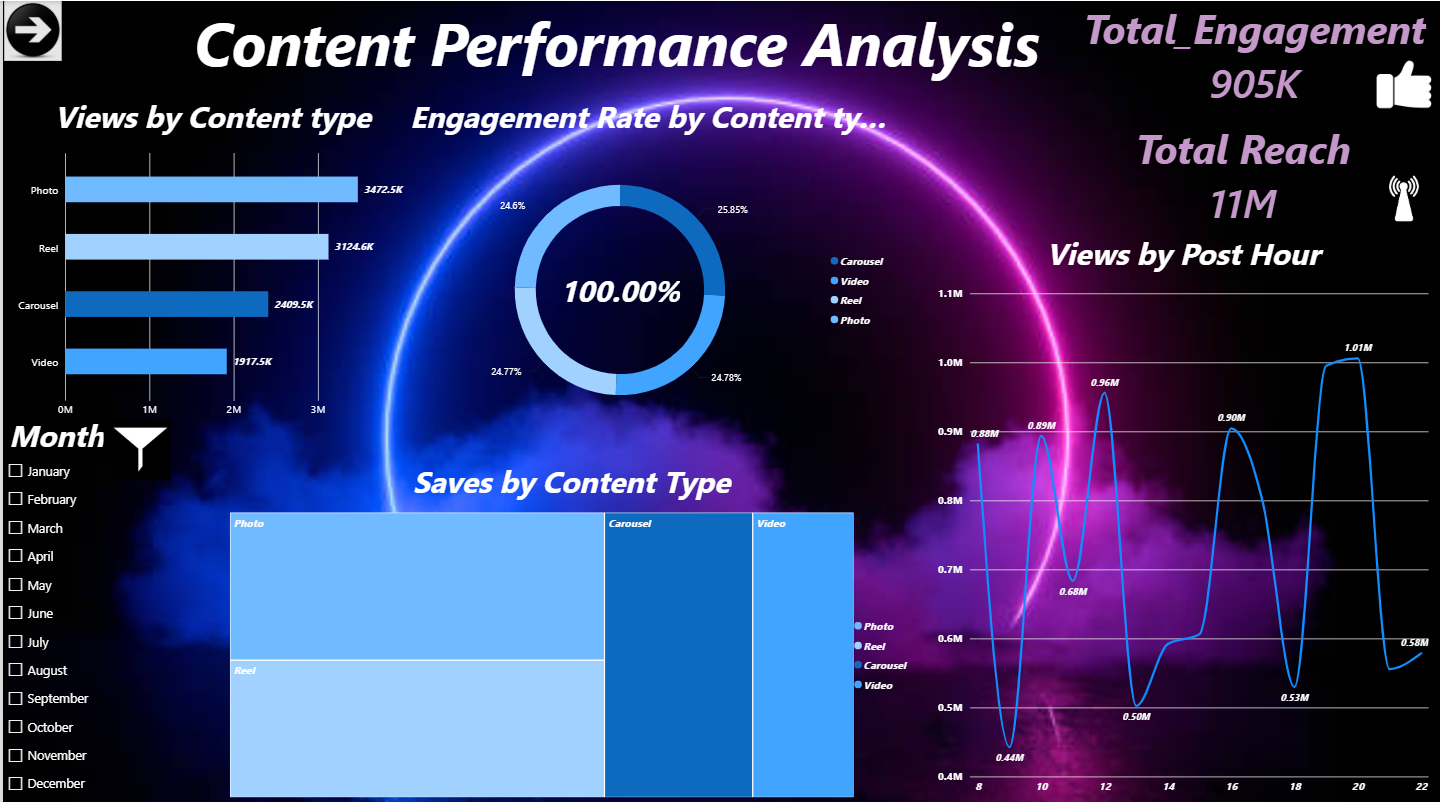

What the dashboard file says about the page in this screenshot:
{"tool":"powerbi","page":{"name":"Content Performance Analysis ","canvas":[1920,1080],"ordinal":1},"visuals":[{"type":"cardVisual","fields":{"Data":["Sheet1.Total_Engagement"]},"box":[1424,0,496,144],"z":0},{"type":"cardVisual","fields":{"Data":["Sheet1.Total Reach"]},"box":[1392,160,528,144],"z":1000},{"type":"slicer","fields":{"Values":["Sheet1.Post Date.Variation.Date Hierarchy.Month"]},"box":[0,552,288,528],"z":2000},{"type":"donutChart","title":"Engagement Rate by Content type","fields":{"Category":["Sheet1.Content_Type"],"Y":["Divide(Sheet1.Engagement Rate, ScopedEval(Sheet1.Engagement Rate, []))"]},"box":[528,112,672,480],"z":3000},{"type":"lineChart","title":"Views by Post Hour","fields":{"Y":["Sum(Sheet1.views)"],"Category":["Sheet1.Post_Hour"]},"box":[1232,296,688,784],"z":4000},{"type":"clusteredBarChart","title":"Views  by Content type","fields":{"Category":["Sheet1.Content_Type"],"Y":["Sum(Sheet1.views)"]},"box":[0,112,560,464],"z":5000},{"type":"treemap","title":"Saves by Content Type","fields":{"Group":["Sheet1.Content_Type"],"Values":["Sum(Sheet1.Saves)"]},"box":[288,600,944,480],"z":6000},{"type":"textbox","box":[256,0,1136,128],"z":7000},{"type":"image","box":[1824,64,96,96],"z":8000},{"type":"image","box":[1824,224,96,80],"z":9000},{"type":"image","box":[0,0,80,80],"z":10000},{"type":"image","box":[144,560,80,80],"z":11000}]}

Visuals, with their boxes in screenshot pixels (x1, y1, x2, y2), scaled from the page's 1920x1080 canvas onto the 1440x802 screenshot:
cardVisual - Sheet1.Total_Engagement: box(1068, 0, 1439, 107)
cardVisual - Sheet1.Total Reach: box(1044, 119, 1439, 226)
slicer - Sheet1.Post Date.Variation.Date Hierarchy.Month: box(0, 410, 216, 801)
"Engagement Rate by Content type" donutChart: box(396, 83, 900, 440)
"Views by Post Hour" lineChart: box(924, 220, 1439, 801)
"Views  by Content type" clusteredBarChart: box(0, 83, 420, 428)
"Saves by Content Type" treemap: box(216, 446, 924, 801)
textbox: box(192, 0, 1044, 95)
image: box(1368, 48, 1439, 119)
image: box(1368, 166, 1439, 226)
image: box(0, 0, 60, 59)
image: box(108, 416, 168, 475)
